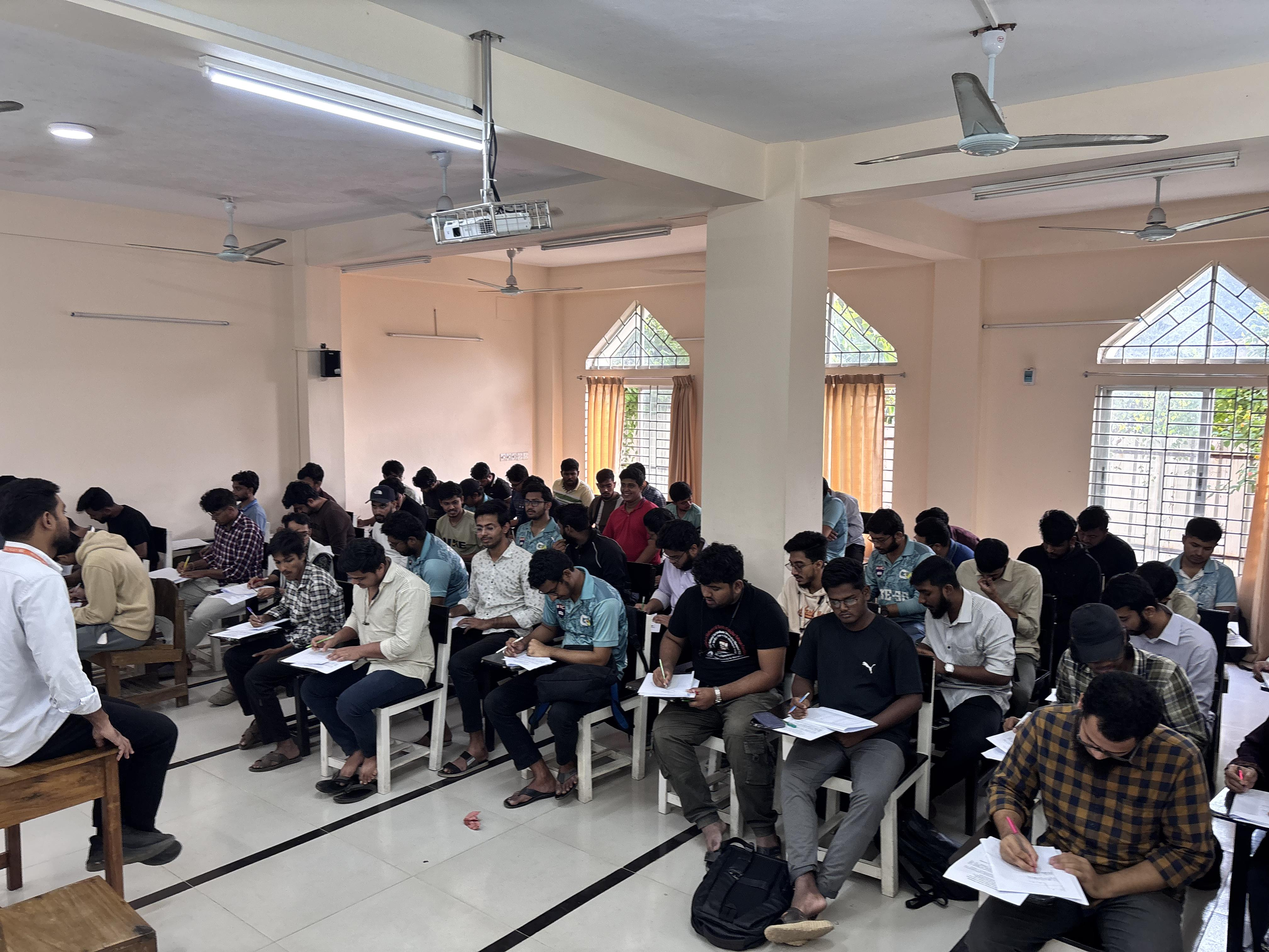copying: (234, 530, 335, 649), (590, 458, 622, 523), (659, 482, 707, 524), (367, 485, 393, 529)
invigilator: (0, 460, 165, 885)
no_cheating: (965, 669, 1188, 951), (491, 548, 625, 784), (655, 545, 784, 751), (798, 564, 910, 787), (327, 535, 434, 746), (897, 556, 1001, 722), (453, 497, 527, 655), (183, 485, 261, 633), (962, 529, 1046, 664), (74, 475, 176, 565), (375, 512, 472, 603), (1020, 504, 1092, 625), (850, 501, 930, 603), (642, 524, 714, 630), (1171, 508, 1242, 615), (773, 524, 831, 631), (1070, 490, 1130, 575), (280, 479, 351, 543), (606, 464, 655, 554), (551, 449, 595, 510), (217, 463, 266, 516)
side_talking: (544, 493, 614, 564), (430, 482, 482, 556), (906, 508, 968, 570)
